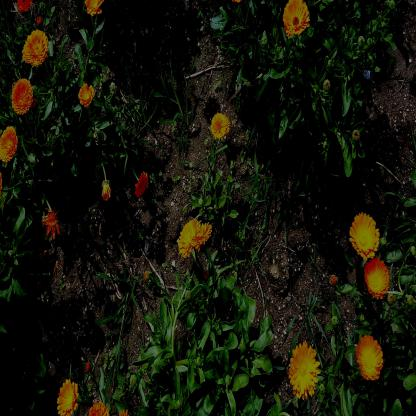marigold: (290, 344, 319, 397), (351, 211, 378, 257), (357, 337, 384, 379), (283, 0, 309, 40), (364, 260, 388, 296), (56, 380, 80, 414), (177, 217, 199, 252), (23, 30, 47, 62), (12, 78, 33, 113), (0, 127, 17, 158), (212, 111, 229, 139), (199, 218, 212, 246), (86, 0, 106, 16), (80, 85, 94, 106)
